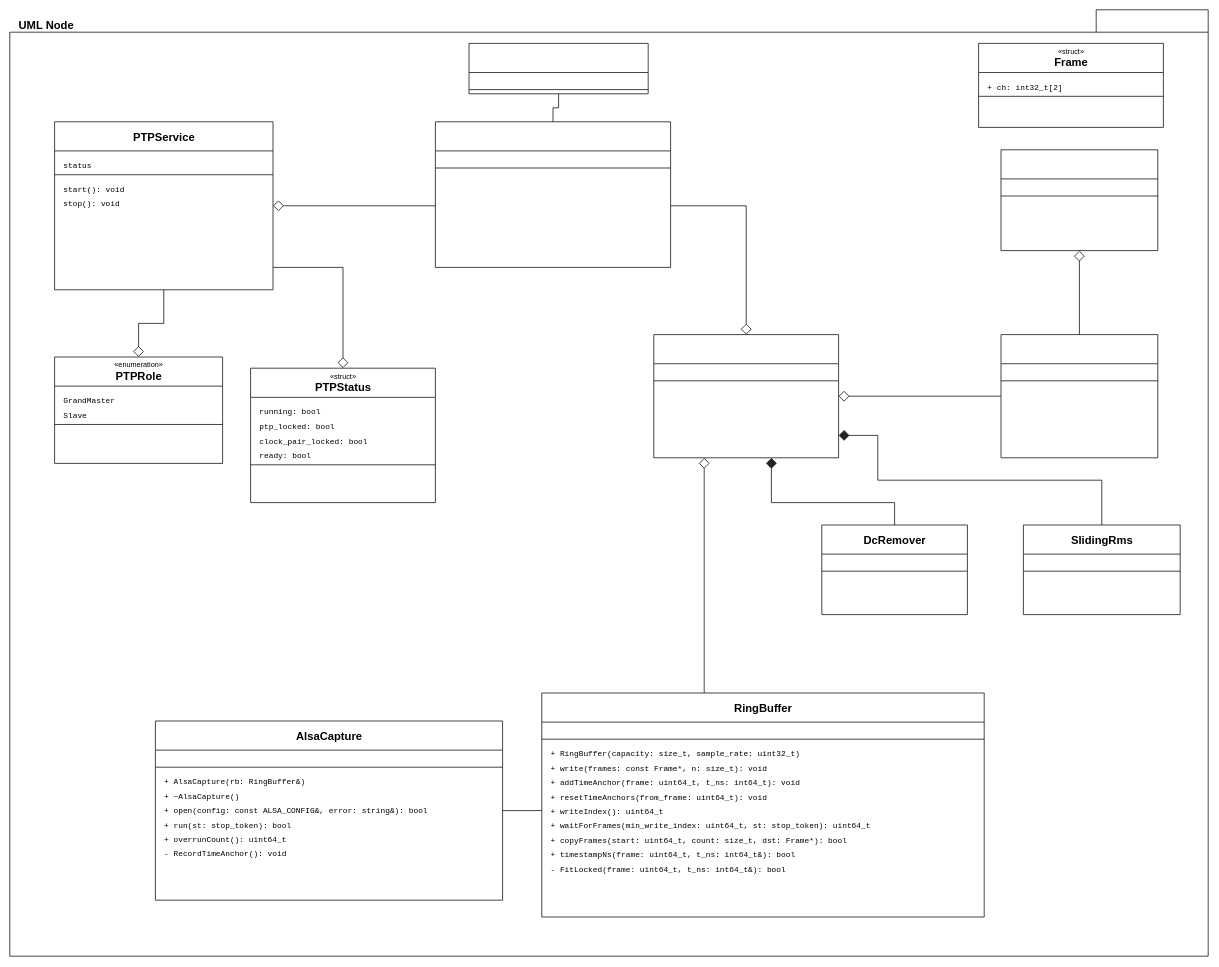
The diagram is 1219 pixels wide and 967 high, and some of its shapes have lost their labels. Each missing label, with the centre of its shape:
"Atlas" belongs at pixel 558 68.
"EventDetector" belongs at pixel 746 396.
"EventQueue" belongs at pixel 1079 396.
"NodeOrchestrator" belongs at pixel 553 194.
"NodeTCP" belongs at pixel 1079 200.
